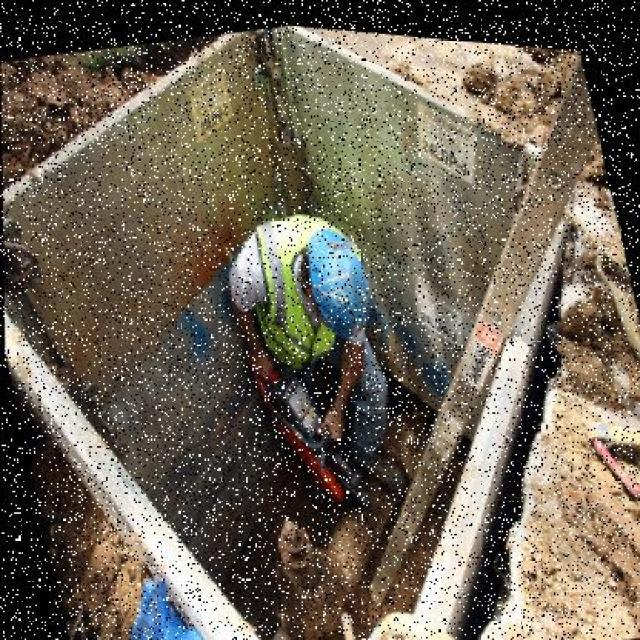helmet: (299, 211, 379, 343)
